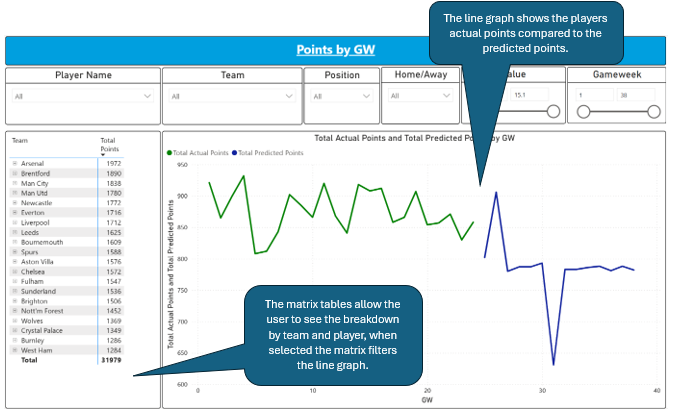

Layout of this report page (visuals, bound fields, positions):
{"tool":"powerbi","page":{"name":"Points by GW","canvas":[1280,720],"ordinal":5},"visuals":[{"type":"group","id":"g1","title":"Group 1","box":[0,58.2,1280,112.9],"z":0},{"type":"textbox","box":[0,0,1280,55.6],"z":1000},{"type":"slicer","title":"Team","fields":{"Values":["FPL_predicted_point.team"]},"box":[303.9,60,271.6,111.1],"z":1000,"group":"g1"},{"type":"slicer","title":"Position","fields":{"Values":["FPL_predicted_point.position","FPL_predicted_point.name"]},"box":[578.2,60,147,110.3],"z":2000,"group":"g1"},{"type":"lineChart","fields":{"Y":["Sum(FPL_predicted_point.Total Points)","Sum(FPL_predicted_point.Predicted Points)"],"Category":["FPL_predicted_point.GW"]},"box":[304,183,976,536.6],"z":2000},{"type":"slicer","title":"Gameweek","fields":{"Values":["FPL_predicted_point.GW"]},"box":[1088.2,59.1,191.8,110.3],"z":3000,"group":"g1"},{"type":"pivotTable","fields":{"Rows":["FPL_predicted_point.Team","FPL_predicted_point.Name"],"Values":["Sum(FPL_predicted_point.Actual/Predicted Points)"]},"box":[0,183,300.9,536.6],"z":3000},{"type":"slicer","title":"Value","fields":{"Values":["FPL_predicted_point.value"]},"box":[882.9,58.2,202.6,111.1],"z":4000,"group":"g1"},{"type":"slicer","title":"Home/Away","fields":{"Values":["FPL_predicted_point.Home/Away"]},"box":[727.8,59.1,152.4,111.1],"z":5000,"group":"g1"},{"type":"slicer","title":"Player Name","fields":{"Values":["FPL_predicted_point.name"]},"box":[0,60,301.2,111.1],"z":6000,"group":"g1"}]}

Visuals, with their boxes on the page's 1280x720 design canvas (x1, y1, x2, y2). These are canvas units, not pixel positions in the 673x413 screenshot, which may show the page scaled, cropped or inside an application window:
"Group 1" group: crop(0, 58, 1280, 171)
textbox: crop(0, 0, 1280, 56)
"Team" slicer: crop(304, 60, 576, 171)
"Position" slicer: crop(578, 60, 725, 170)
lineChart - Sum(FPL_predicted_point.Total Points) x Sum(FPL_predicted_point.Predicted Points): crop(304, 183, 1280, 720)
"Gameweek" slicer: crop(1088, 59, 1280, 169)
pivotTable - FPL_predicted_point.Team x FPL_predicted_point.Name: crop(0, 183, 301, 720)
"Value" slicer: crop(883, 58, 1086, 169)
"Home/Away" slicer: crop(728, 59, 880, 170)
"Player Name" slicer: crop(0, 60, 301, 171)
